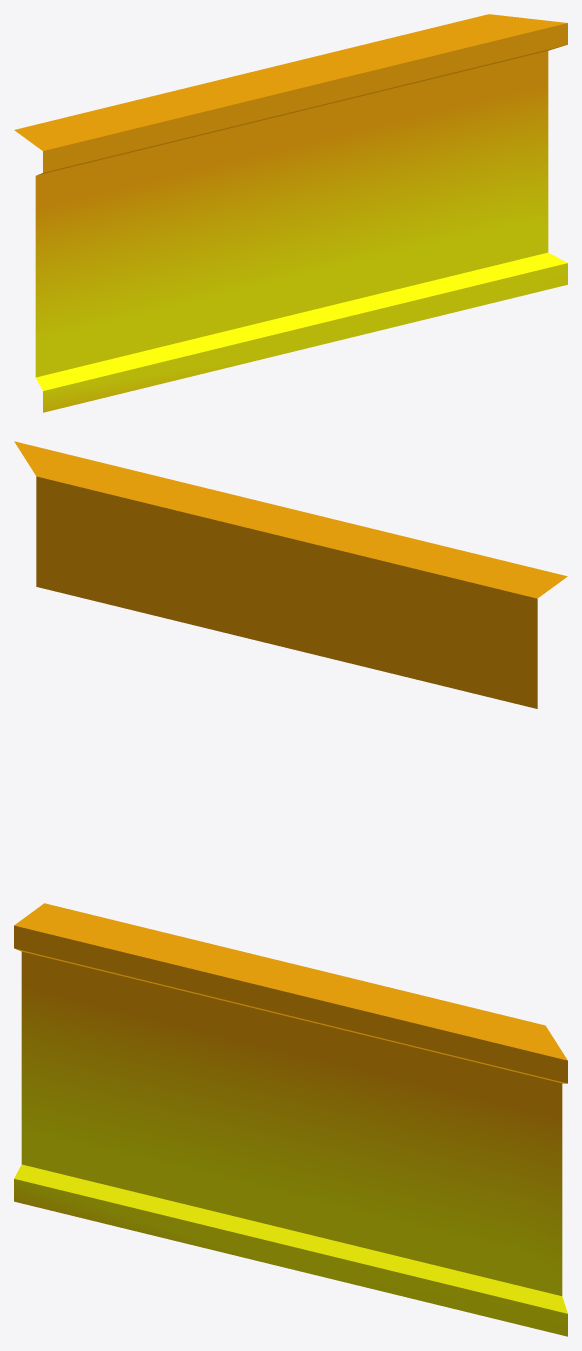
The model's file is cornice-metal-r.glb.
3 views of the same model, one above another, from view 1: azimuth 30°, elevation 25°; view 2: azimuth 150°, elevation 25°; view 3: azimuth 330°, elevation 25° (orthographic). The views are drawn at different scales.
Visible parts, largest first — view 1: Cornice_Metal_R; view 2: Cornice_Metal_R; view 3: Cornice_Metal_R.
Boxes of the visible parts, x1,y1,x2,y2 form: Cornice_Metal_R: (14, 14, 567, 412); Cornice_Metal_R: (14, 441, 567, 708); Cornice_Metal_R: (14, 903, 567, 1336).
Size of the model in its own units: 2.1 by 1 by 0.2.
1 material, 1 textured.
